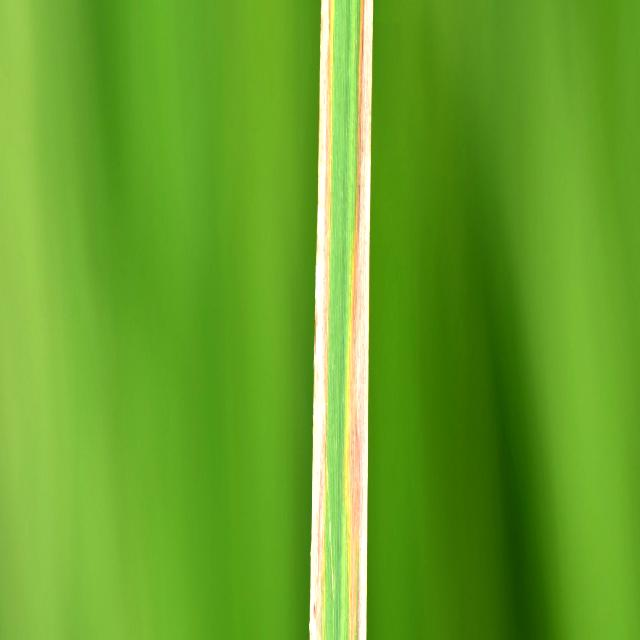BLB: (345, 0, 372, 636), (310, 0, 334, 635)
